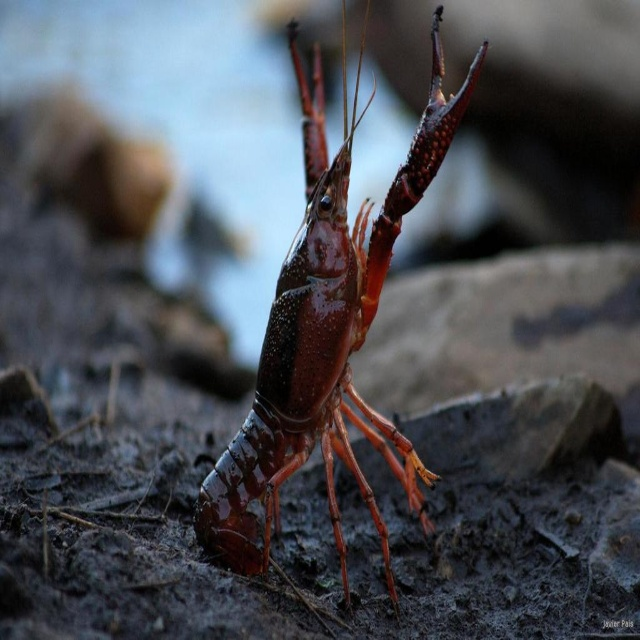Crab: (192, 0, 488, 618)
